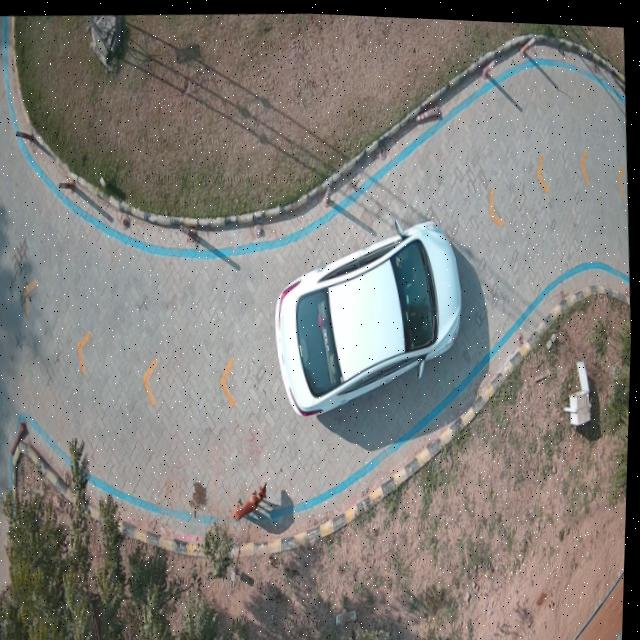car: (276, 220, 465, 415)
